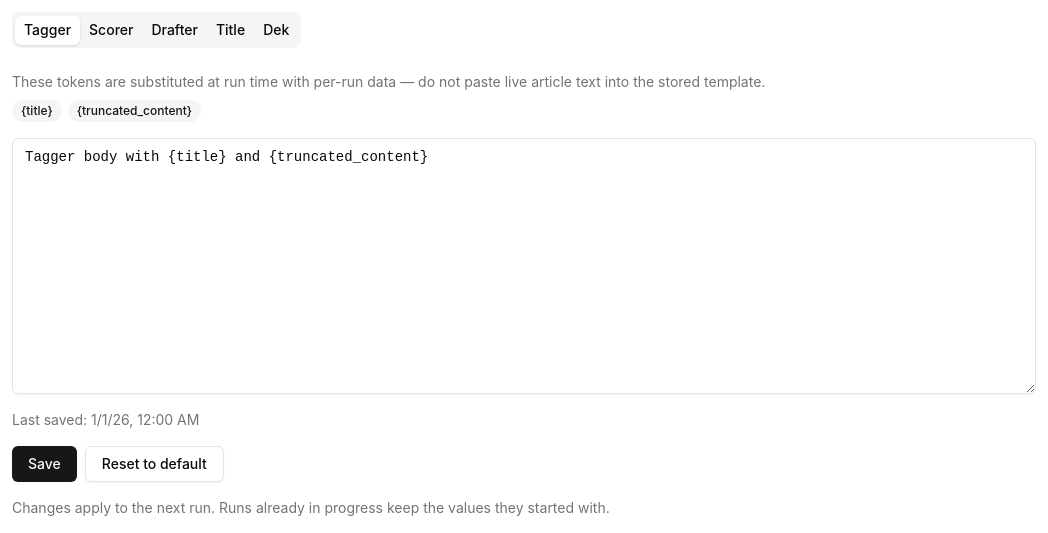
Test: PromptsEditor — tabs and placeholders › switching to Title shows title placeholder chips and that role's body
The width and height of the screenshot is (1048, 533).
Click the tab "Title" at (230, 30), box [207, 16, 254, 44]
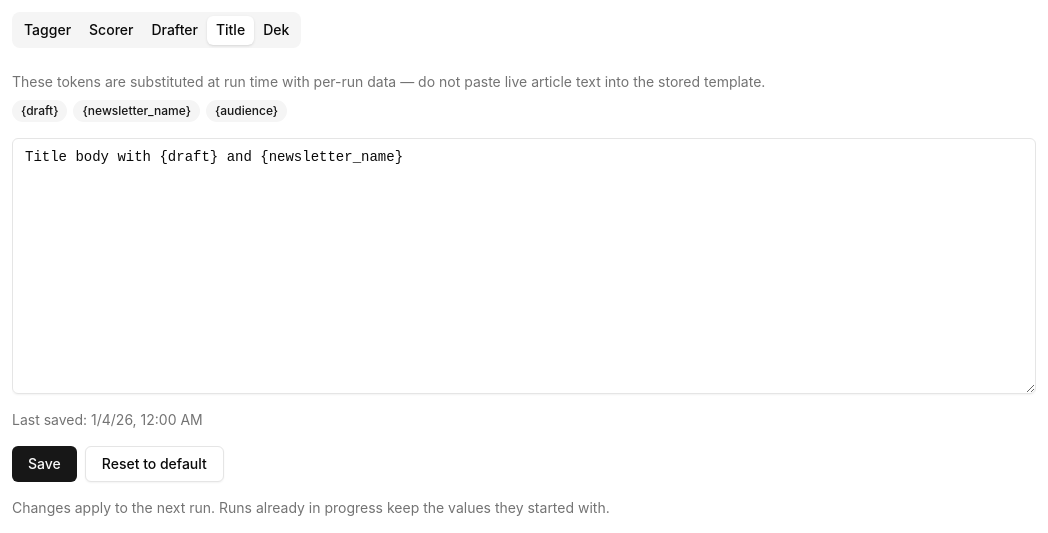
Expected: the text box holds "Title body with {draft} and {newsletter_name}", [12, 138, 1036, 394]
Expected: the text "{audience}" is shown, [206, 100, 287, 122]
Expected: the text "{draft}" is shown, [12, 100, 68, 122]
